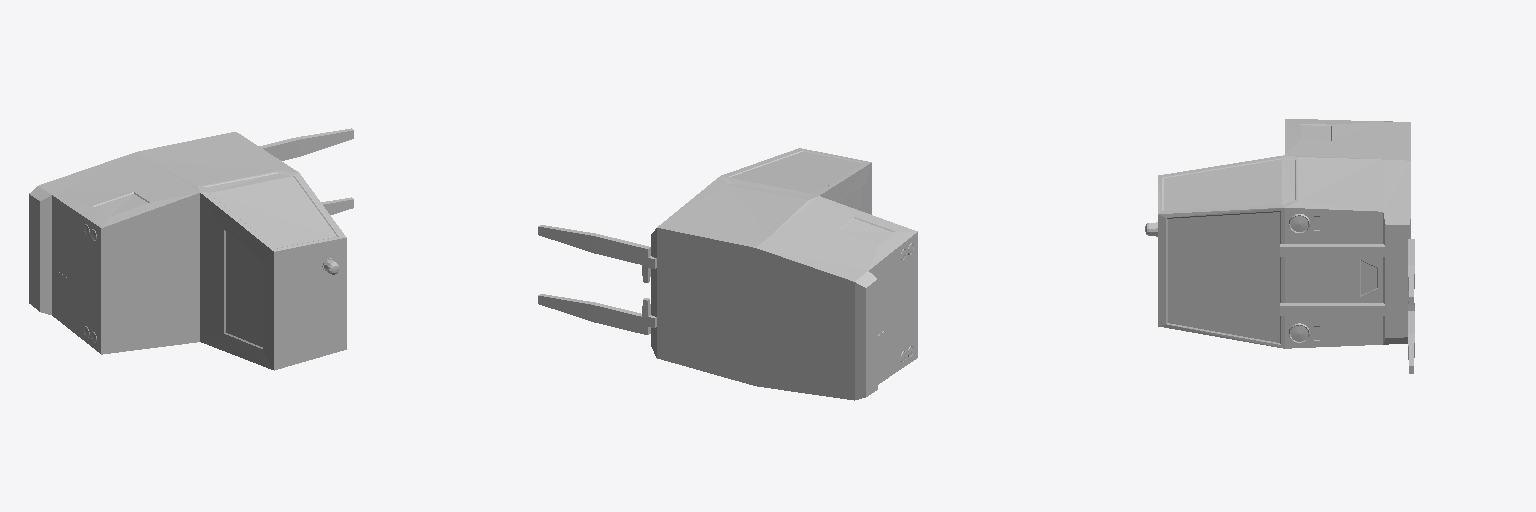
The model's file is igs_forklift.obj.
The picture shows the model from 3 angles: view 1: azimuth 30°, elevation 25°; view 2: azimuth 150°, elevation 25°; view 3: azimuth 270°, elevation 25°; orthographic projection.
Visible parts, largest first — view 1: fork_Cube.001; view 2: fork_Cube.001; view 3: fork_Cube.001.
Part boxes in pixels (left/top/right/bottom): fork_Cube.001: left=29, top=128, right=353, bottom=370; fork_Cube.001: left=538, top=148, right=917, bottom=400; fork_Cube.001: left=1145, top=119, right=1414, bottom=373.
Bounding box in the file's own units: 0.2367 × 0.104 × 0.1698.